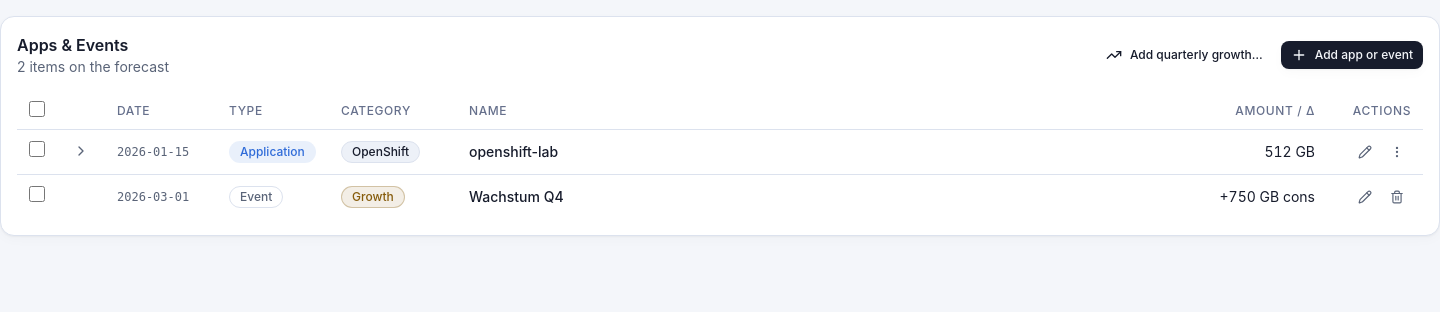
Test: ItemsTab — bulk date shift (#256) › select-all toggles every row, and goes indeterminate on a partial selection
Click the checkbox named "Select all apps and events" at (37, 109), box [29,101,45,117]
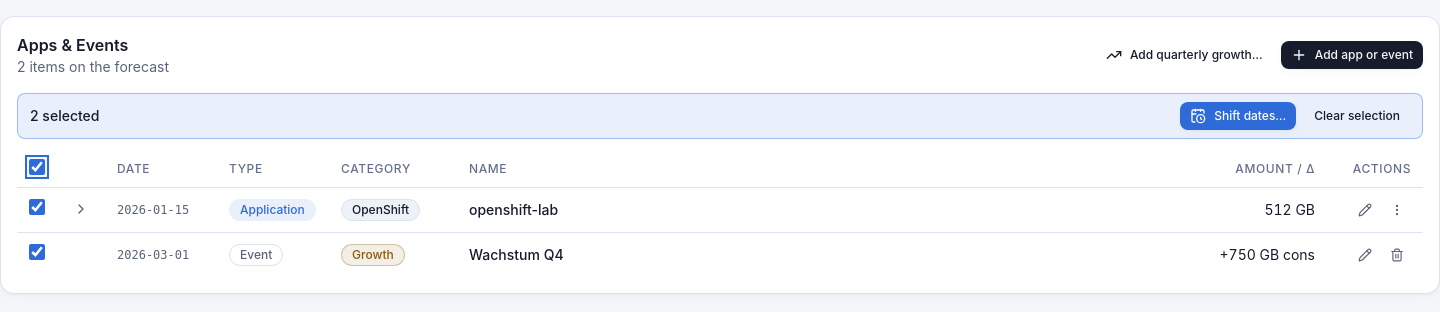
Check: the checkbox named "Select all apps and events" is checked, box [29,159,45,175]
Check: the message reads "2 selected", box [30,106,100,126]
Note: Unticking one row leaves the header in the mixed state.
Click the checkbox named "Select Wachstum Q4" at (37, 252), box [29,244,45,260]
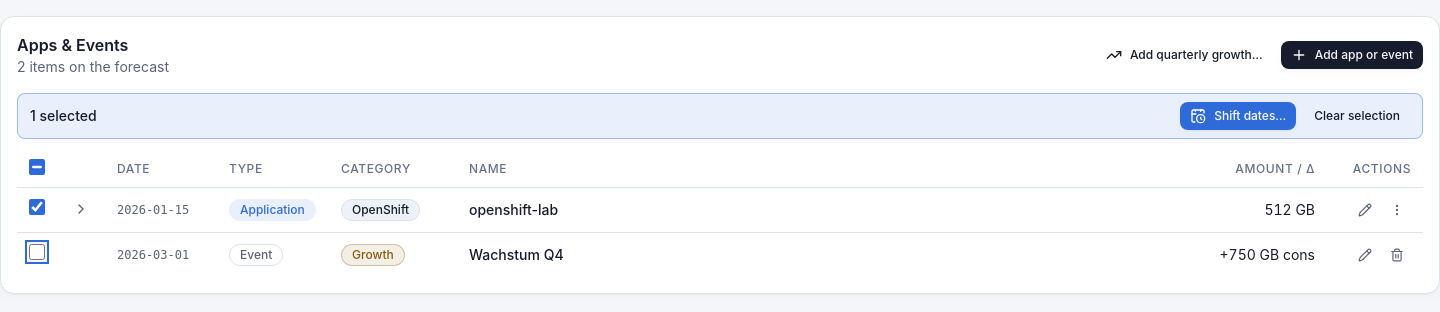
Check: the checkbox named "Select all apps and events" is not checked
Check: the message reads "1 selected", box [30,106,97,126]
Note: Toggling the header again from the mixed state selects everything.
Click the checkbox named "Select all apps and events" at (37, 167), box [29,159,45,175]
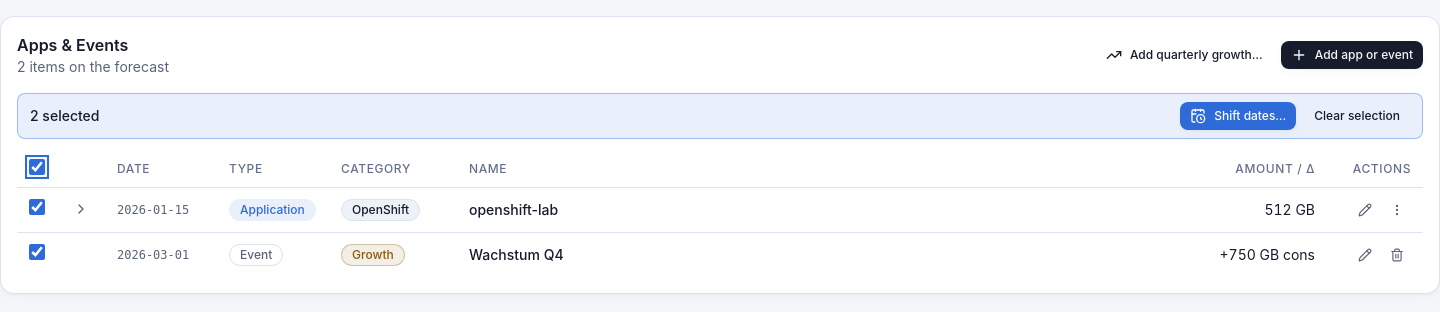
Check: the message reads "2 selected", box [30,106,100,126]
